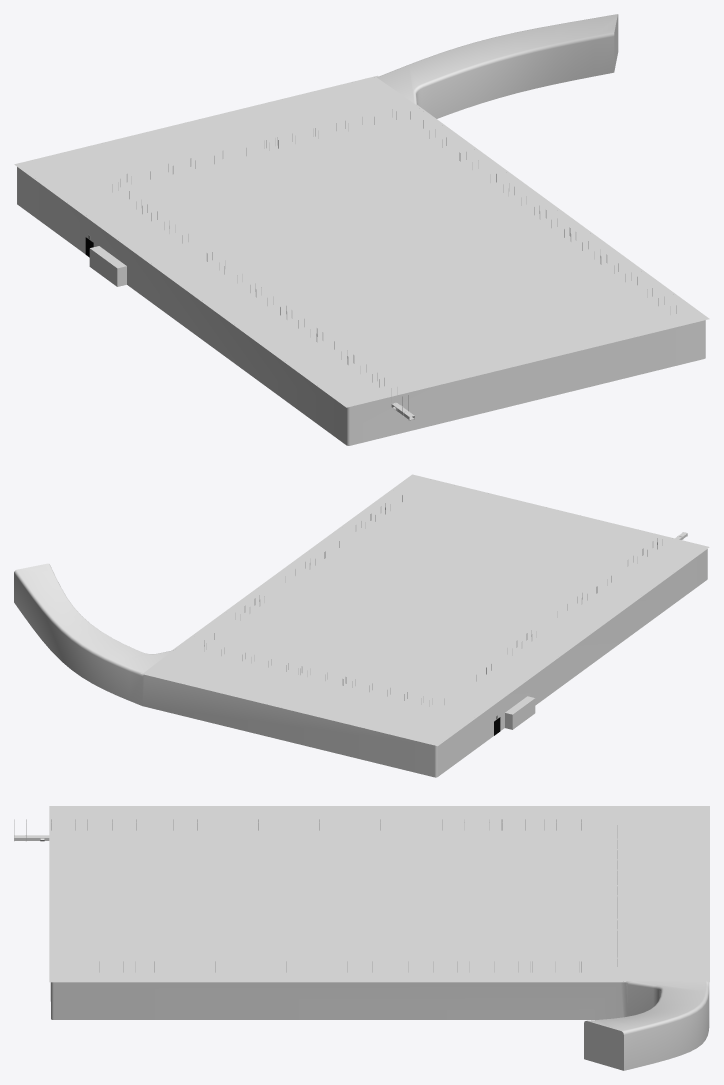
File: uploads_files_4562929_parking.fbx
The picture shows the model from 3 angles, top to bottom: view 1: azimuth 30°, elevation 25°; view 2: azimuth 150°, elevation 25°; view 3: azimuth 270°, elevation 25°; orthographic projection. The views are drawn at different scales.
Visible parts, largest first — view 1: roof_plane, wall, lift; view 2: roof_plane, wall, lift; view 3: roof_plane, wall.
Part boxes in pixels (<box>): roof_plane: <box>14,75,709,407</box>; wall: <box>17,14,705,445</box>; lift: <box>89,246,126,286</box>; roof_plane: <box>140,474,709,746</box>; wall: <box>14,549,707,777</box>; lift: <box>505,696,535,729</box>; roof_plane: <box>49,806,709,982</box>; wall: <box>50,981,709,1070</box>.
Bounding box in the file's own units: 5242 × 755 × 5592.
